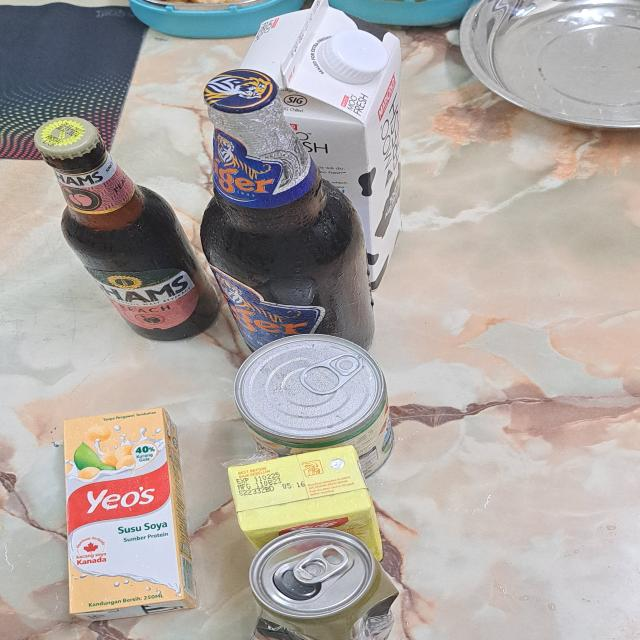can: (235, 334, 395, 481), (250, 527, 398, 640)
drink carton: (237, 0, 401, 290), (64, 406, 198, 622), (226, 444, 383, 565)
glass bottle: (198, 67, 376, 355), (34, 116, 219, 344)
pop tab: (299, 353, 363, 395), (293, 544, 349, 583)
